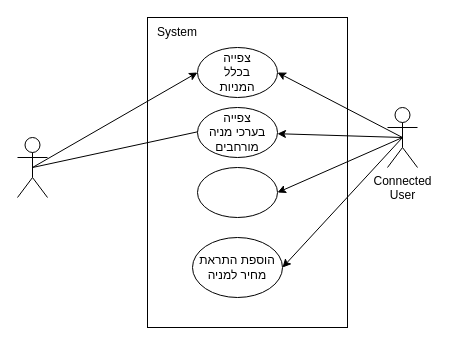
This 449x345 diagram has some shape labels left out. Each missing label, with the centre of its shape:
"Other Users" goes at (32,167).
"הוספת מניה לתיק" goes at (237,192).
